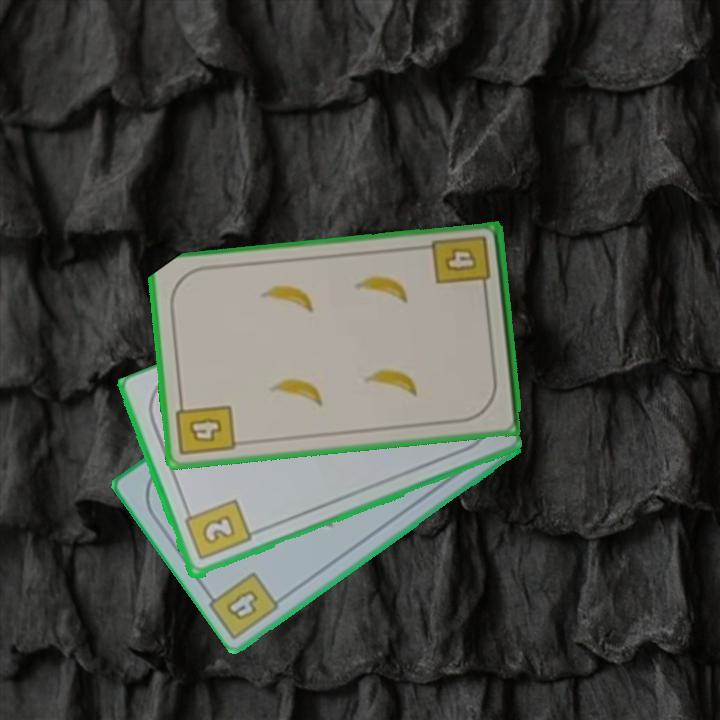2b: (180, 496, 254, 564)
4b: (429, 232, 494, 297), (173, 395, 238, 459), (222, 586, 261, 624)
